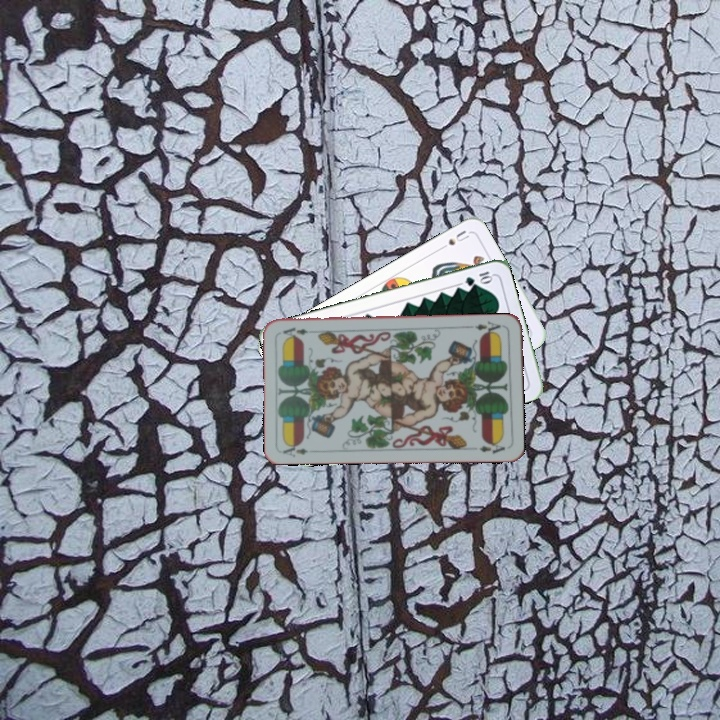EA: (279, 440, 319, 459), (466, 317, 503, 337)
G10: (461, 267, 495, 288)
SU: (434, 226, 472, 253)
